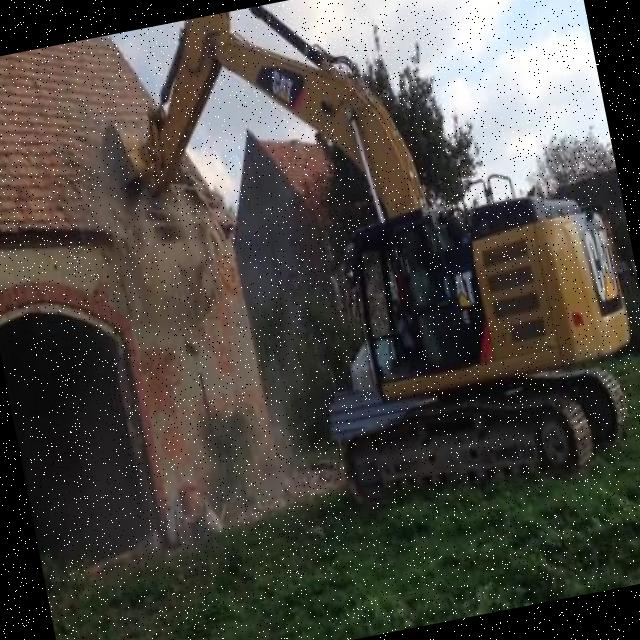Excavator: (70, 0, 640, 555)
